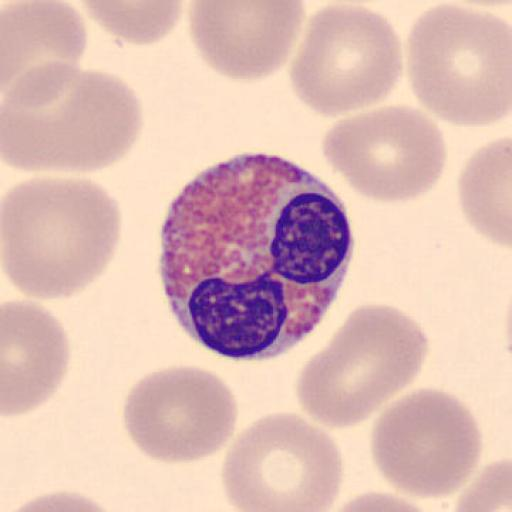RBC: (296, 303, 429, 430), (0, 61, 146, 174), (2, 174, 123, 301), (405, 1, 512, 129), (368, 385, 484, 501), (290, 2, 404, 118), (320, 104, 448, 205), (220, 410, 346, 512), (122, 363, 240, 465), (1, 60, 94, 174), (187, 0, 307, 82), (2, 0, 90, 99), (2, 298, 71, 419), (456, 134, 512, 248), (74, 0, 186, 47), (451, 457, 512, 512), (324, 483, 443, 511), (0, 489, 125, 512), (317, 489, 438, 512), (441, 0, 512, 23), (439, 0, 512, 17), (442, 0, 512, 7)
WBC: (158, 155, 354, 361)
